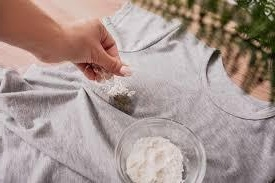wine: (99, 79, 165, 118)
